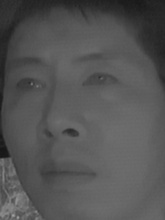eye: (81, 68, 120, 93), (13, 72, 46, 97)
mouth: (32, 154, 101, 192)
